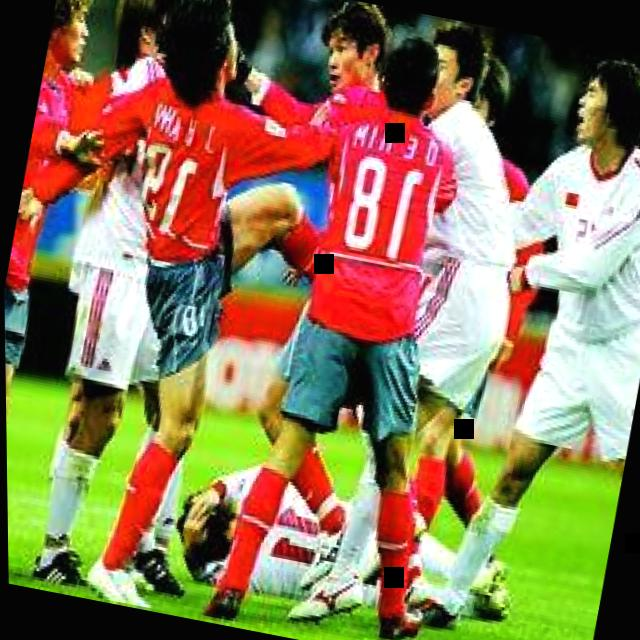Fall-Detected: (148, 413, 559, 640)
